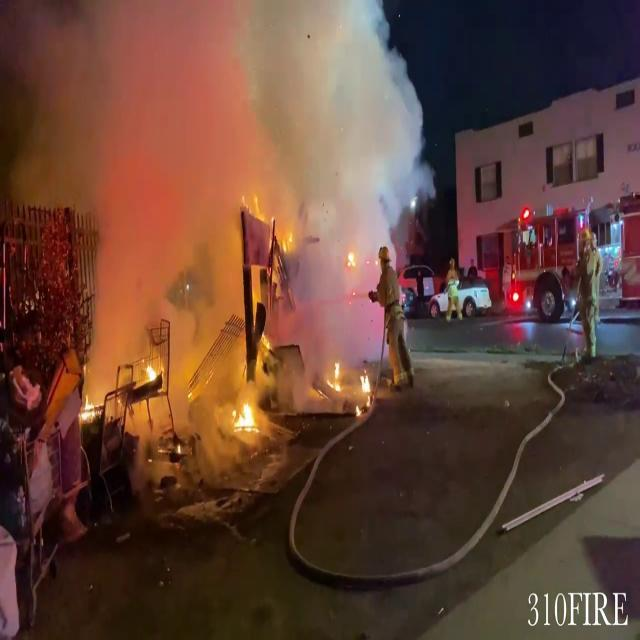Fire: (322, 354, 374, 408), (232, 389, 260, 439)
Smoke: (52, 2, 428, 390)
